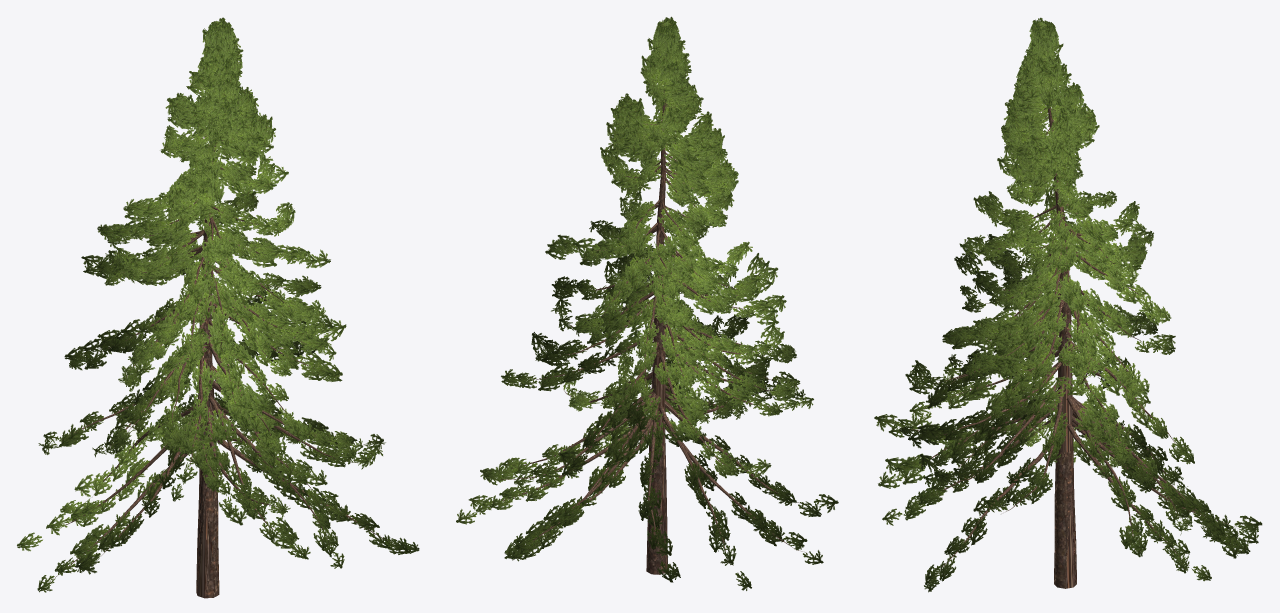
File: tree_pine_a_lod0.glb
The picture shows the model from 3 angles, left to right: view 1: azimuth 30°, elevation 25°; view 2: azimuth 150°, elevation 25°; view 3: azimuth 270°, elevation 25°; orthographic projection. The views are drawn at different scales.
Parts seen in each view (by area): view 1: pine_a; view 2: pine_a; view 3: pine_a.
Boxes of the visible parts, bbox=[...] form: pine_a: bbox=[17, 17, 419, 598]; pine_a: bbox=[456, 16, 838, 590]; pine_a: bbox=[874, 17, 1262, 592].
Size of the model in its own units: 9.91 by 17 by 10.71.
2 materials, 2 textured.
